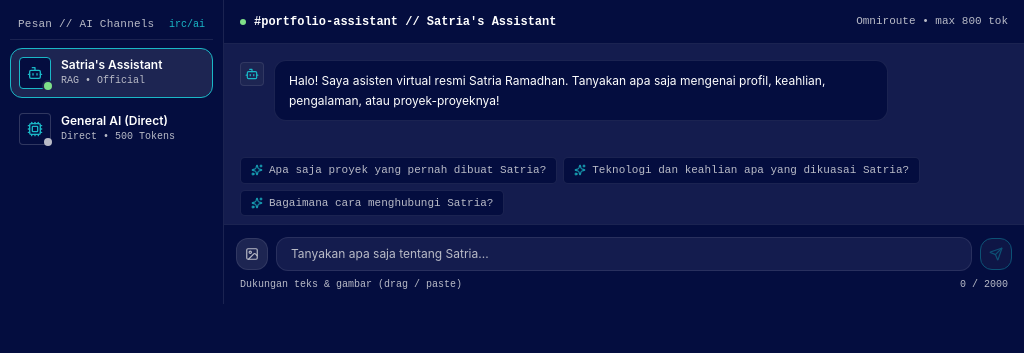
Test: MessageApp Component RTL Tests › sends message when clicking a suggested prompt button
The image size is (1024, 353).
Click the button with test id "suggested-prompt-btn": (399, 170) [240,157,557,184]
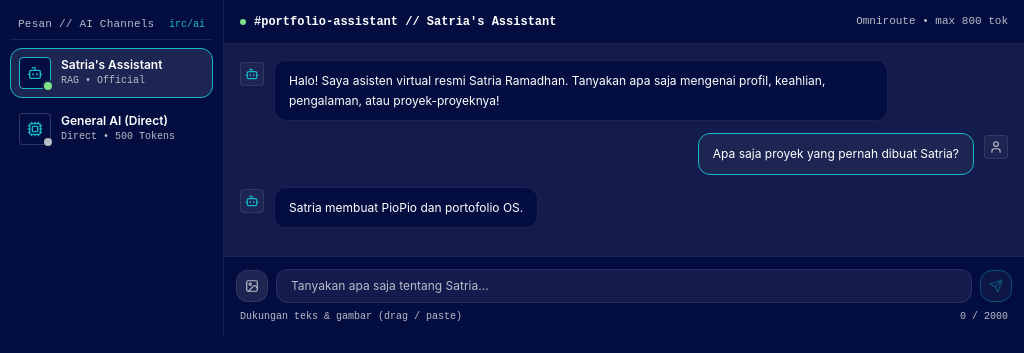
Expected: the element with test id "chat-bubble-user" is shown, [698,133,1008,174]
Expected: the text "Satria membuat PioPio dan portofolio OS." is shown, [289,198,523,217]
